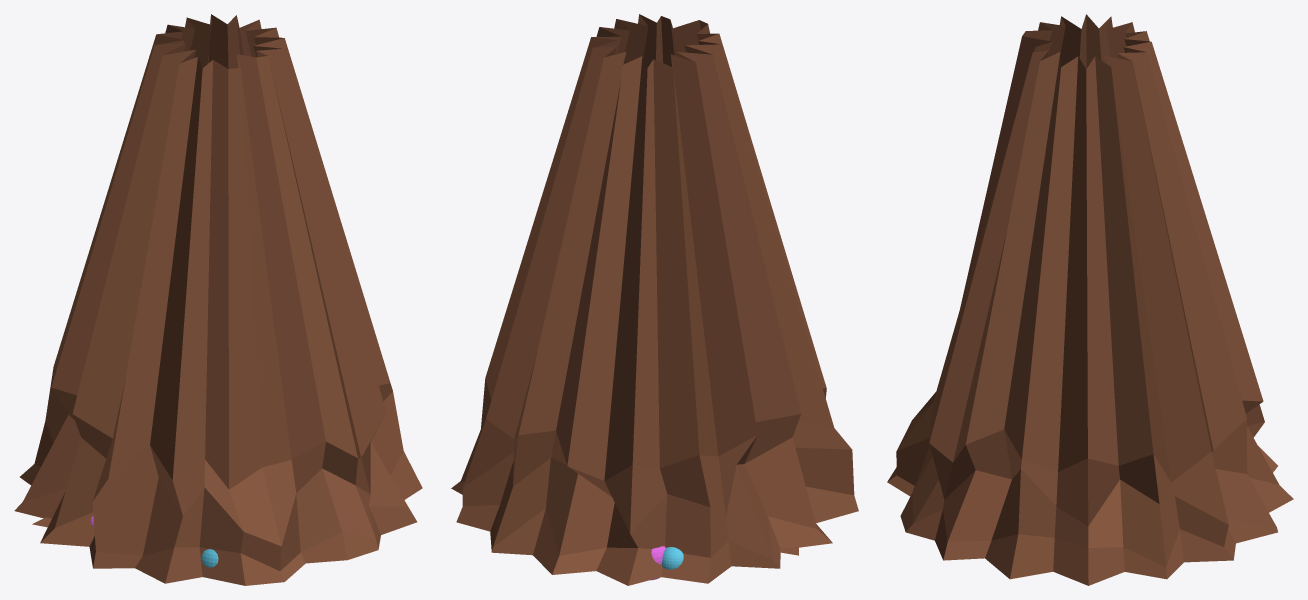
File: greybox6.fbx
3 renders of one model, left to right at view 1: azimuth 30°, elevation 25°; view 2: azimuth 150°, elevation 25°; view 3: azimuth 270°, elevation 25°, orthographic.
Parts seen in each view (by area): view 1: Cylinder; view 2: Cylinder; view 3: Cylinder.
Boxes of the visible parts, x1=… form: Cylinder: x1=14, y1=14, x2=422, y2=585; Cylinder: x1=451, y1=14, x2=858, y2=585; Cylinder: x1=887, y1=14, x2=1293, y2=585.
Size of the model in its own units: 1959 by 2512 by 1940.
